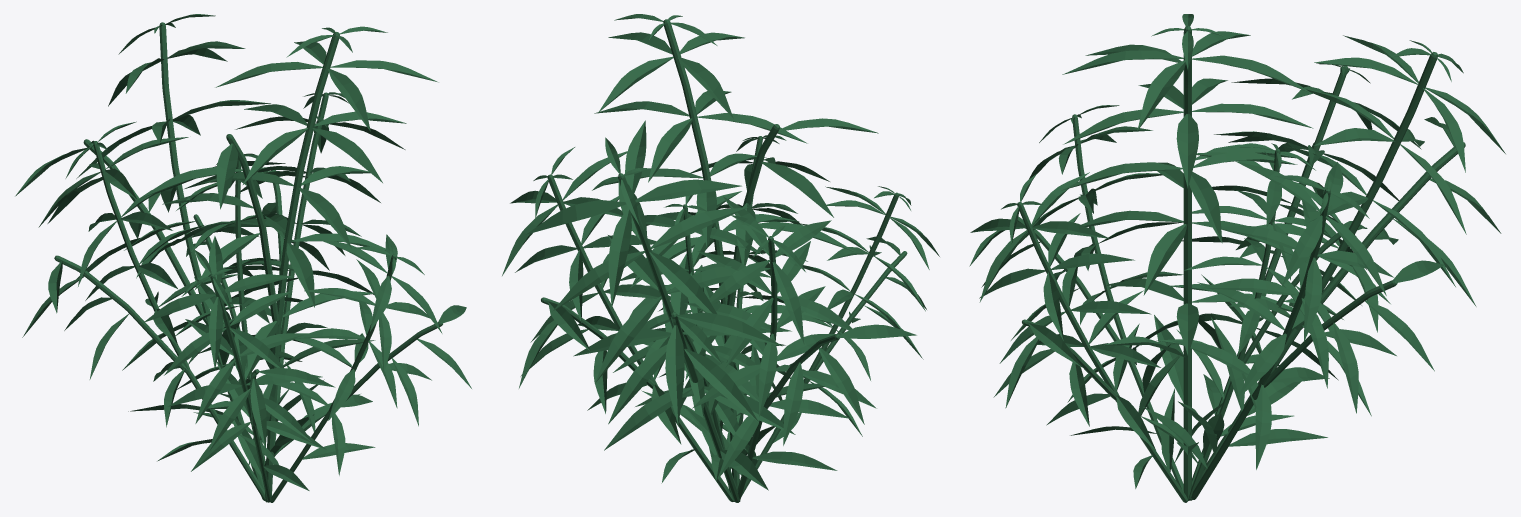
File: mod_vg_sauge.fbx
3 renders of one model, left to right at view 1: azimuth 30°, elevation 25°; view 2: azimuth 150°, elevation 25°; view 3: azimuth 270°, elevation 25°, orthographic. The views are drawn at different scales.
Visible parts, largest first — view 1: Plane, Plane.116, Plane.145, Plane.174, Plane.058, Plane.087, Plane.029, Plane.028, Plane.011, Plane.020, Plane.017, Plane.015 (+29 smaller); view 2: Plane, Plane.174, Plane.116, Plane.087, Plane.145, Plane.142, Plane.140, Plane.128, Plane.144, Plane.134, Plane.131, Plane.127 (+49 smaller); view 3: Plane.116, Plane.174, Plane, Plane.058, Plane.087, Plane.029, Plane.145, Plane.005, Plane.003, Plane.006, Plane.004, Plane.187 (+43 smaller).
Boxes of the visible parts, x1,y1,x2,y2 form: Plane: (226,32,339,502); Plane.116: (83,22,265,500); Plane.145: (54,141,265,499); Plane.174: (271,92,328,445); Plane.058: (270,254,442,502); Plane.087: (210,274,271,502); Plane.029: (193,158,265,469); Plane.028: (216,143,237,209); Plane.011: (328,68,370,131); Plane.020: (286,243,314,307); Plane.017: (299,188,351,248); Plane.015: (243,128,308,184); Plane: (663,19,779,488); Plane.174: (541,174,734,501); Plane.116: (618,173,740,502); Plane.087: (741,192,907,496); Plane.145: (737,236,839,499); Plane.142: (665,325,684,425); Plane.140: (684,348,758,422); Plane.128: (608,207,631,307); Plane.144: (677,312,782,346); Plane.134: (595,296,661,383); Plane.131: (649,251,716,313); Plane.127: (635,179,741,202); Plane.116: (1201,52,1465,478); Plane.174: (1191,188,1397,499); Plane: (1183,26,1191,500); Plane.058: (1017,202,1188,502); Plane.087: (1017,114,1183,491); Plane.029: (1188,149,1340,500); Plane.145: (1192,66,1348,485); Plane.005: (1176,114,1198,188); Plane.003: (1143,224,1187,295); Plane.006: (1137,60,1185,130); Plane.004: (1189,172,1222,243); Plane.187: (1282,215,1322,285).
Size of the model in its own units: 121 by 141 by 134.
